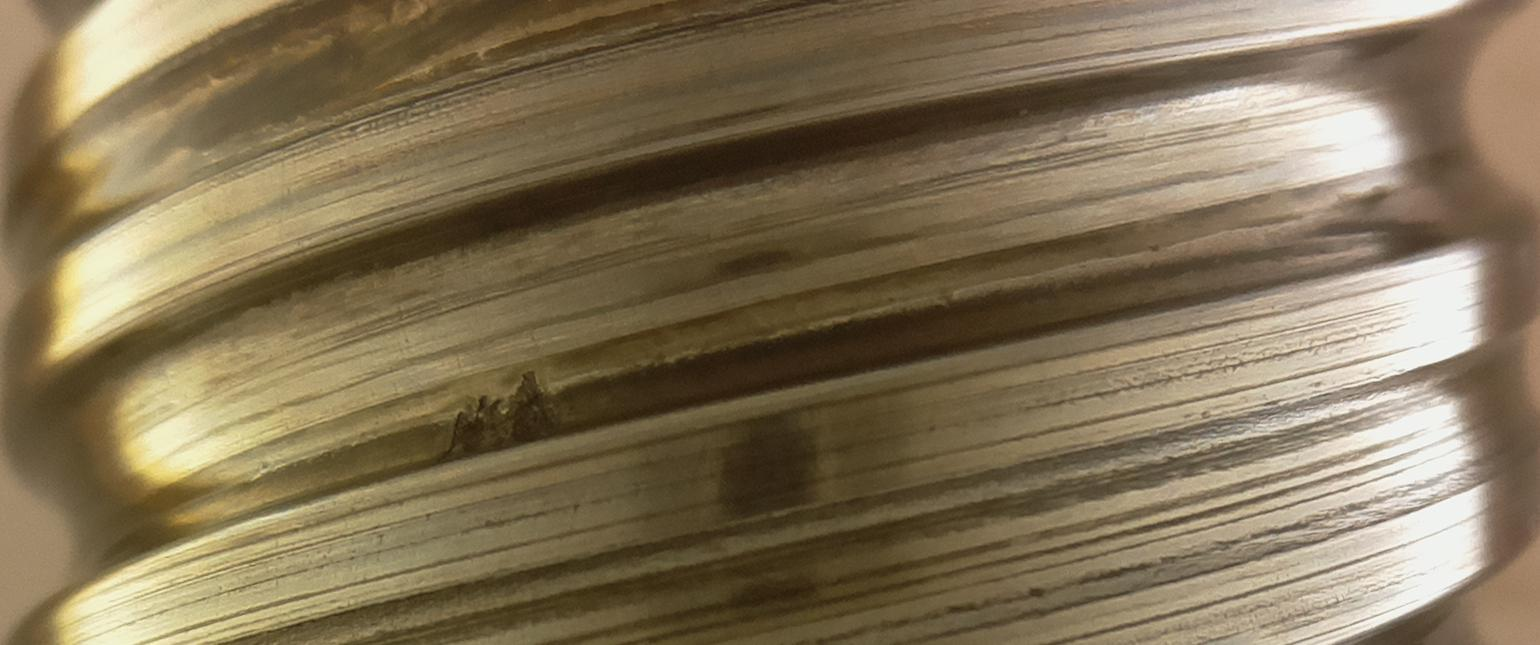pitting: (437, 370, 560, 463)
